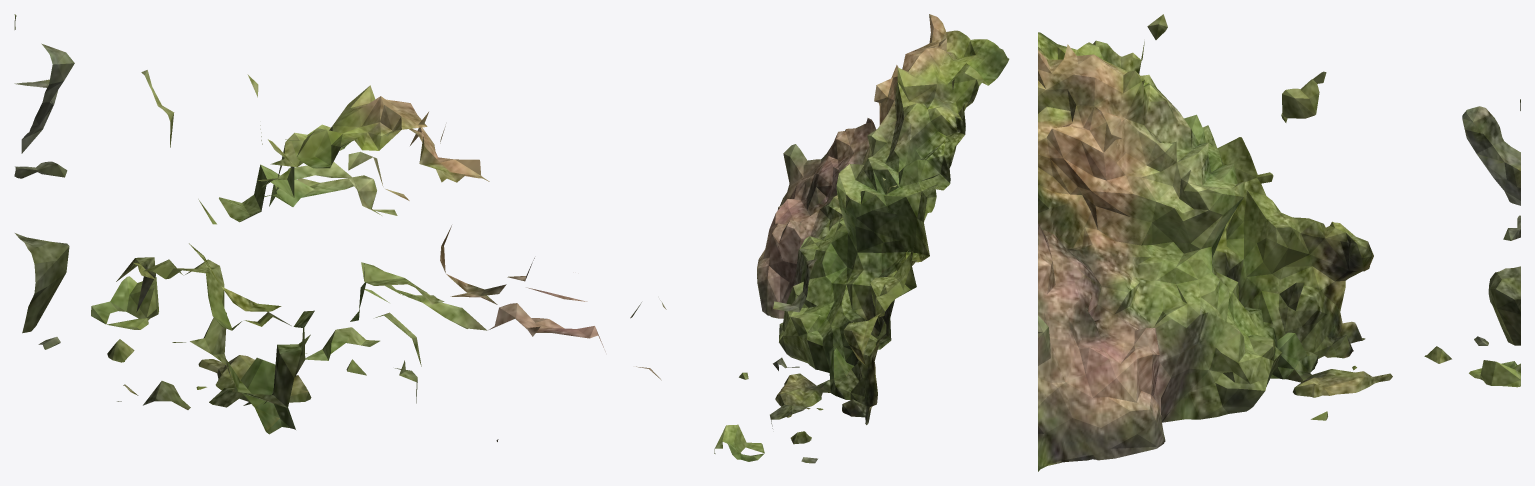
3 renders of one model, left to right at view 1: azimuth 30°, elevation 25°; view 2: azimuth 150°, elevation 25°; view 3: azimuth 270°, elevation 25°, orthographic. The views are drawn at different scales.
Size of the model in its own units: 7.7 by 8.91 by 11.8.
Materials: 3 (3 with a texture image).
